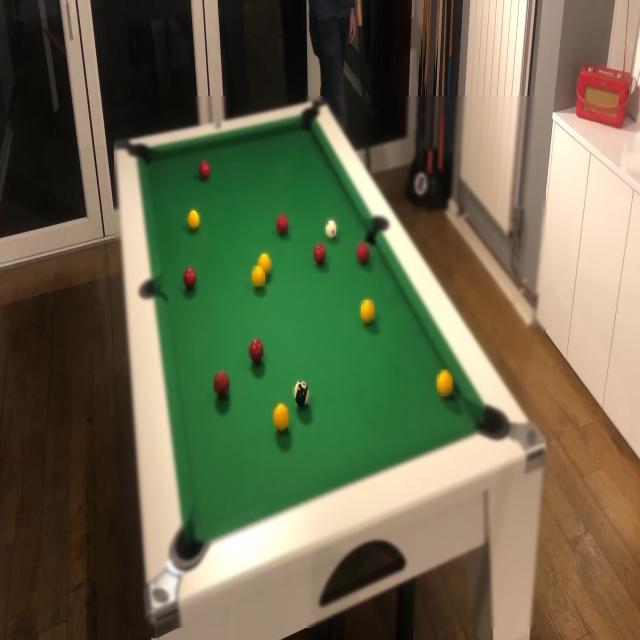Ball: (214, 370, 229, 398), (274, 404, 288, 432), (294, 381, 309, 406), (437, 371, 452, 396), (249, 340, 263, 362), (361, 300, 374, 323), (183, 267, 196, 289), (252, 266, 265, 286), (258, 254, 271, 273), (314, 244, 326, 264), (357, 243, 369, 263), (277, 214, 288, 234), (188, 210, 199, 229), (199, 160, 209, 179), (326, 221, 336, 239)
Billiard table: (114, 96, 546, 628)
